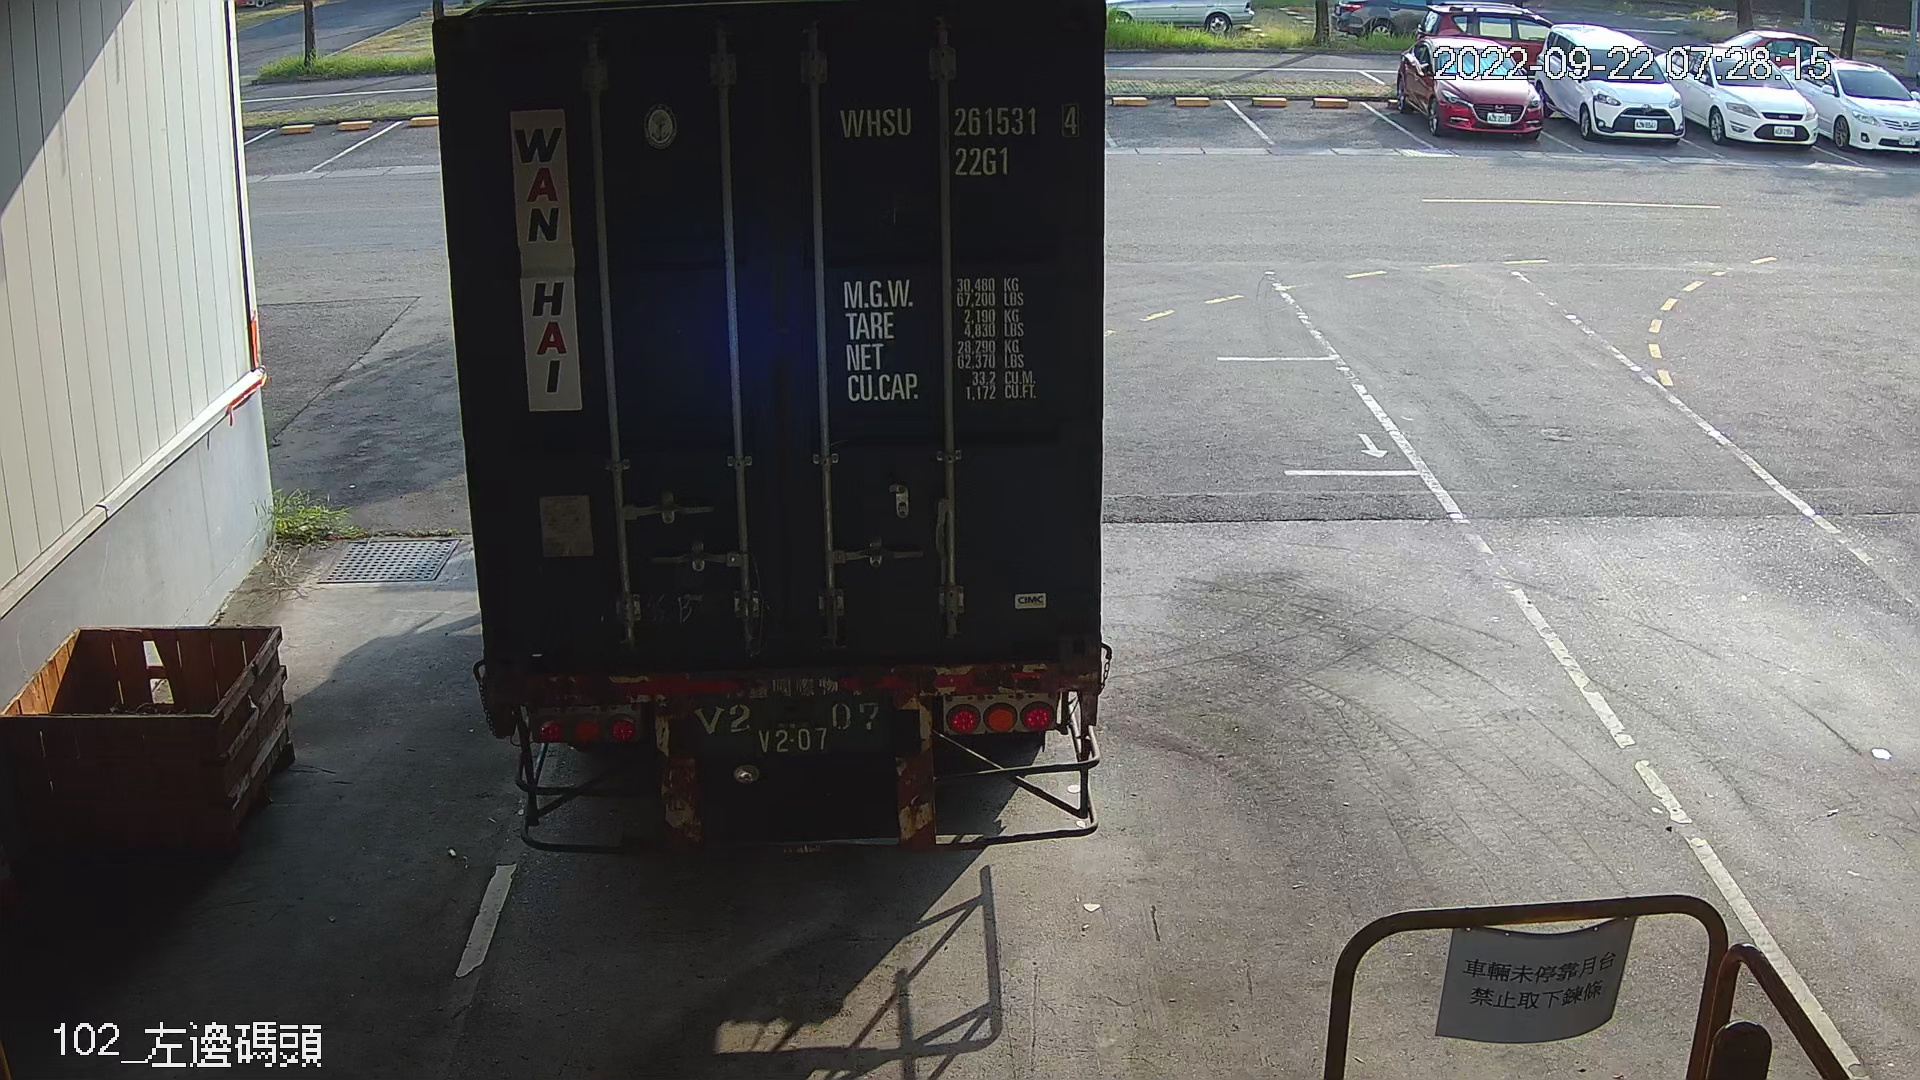container: (831, 98, 1091, 186)
